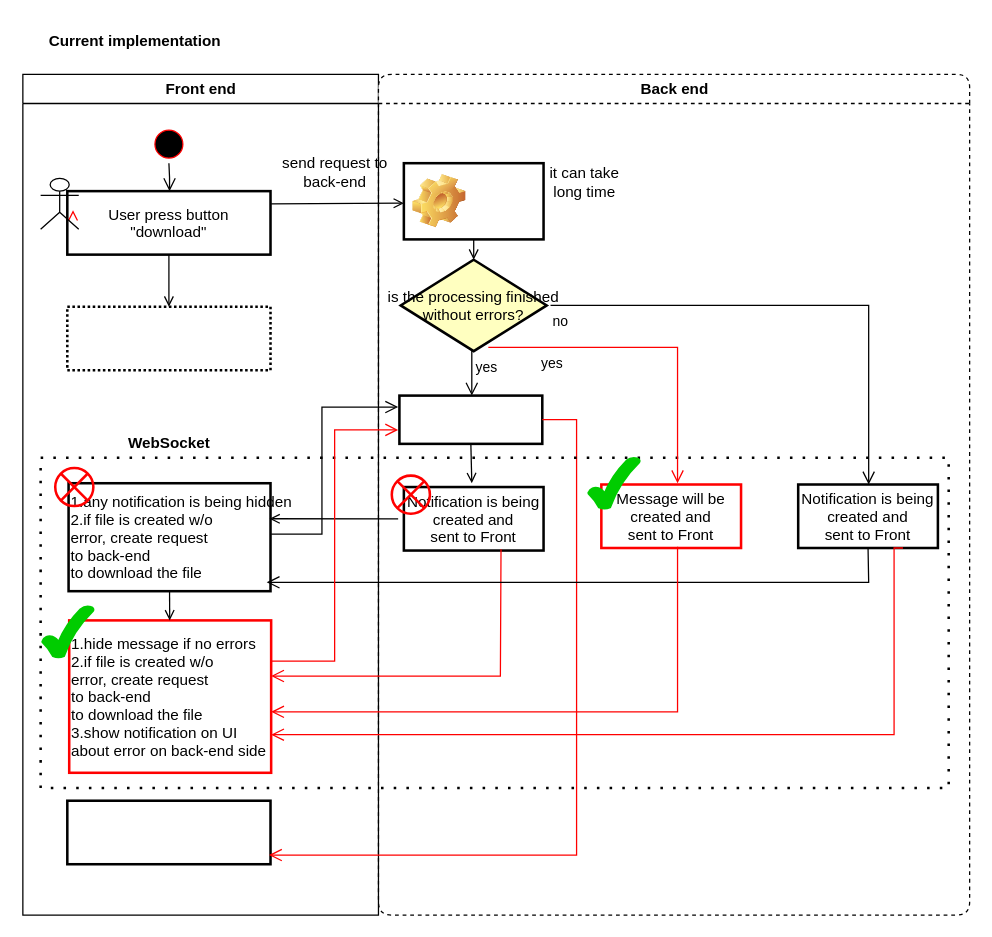
Some shapes in this 992 by 937 pixel diagram are drawn without their labels. The shapes that lost their labels are listed below. From the top down, each one's box as (x1, y1, x2, y2) in pixels, then its label:
(39, 177, 79, 229): Actor
(402, 161, 544, 240): Create the file
(65, 305, 271, 371): User can switch to another module
(398, 394, 543, 444): save file in BLOB
(65, 799, 271, 865): file download
